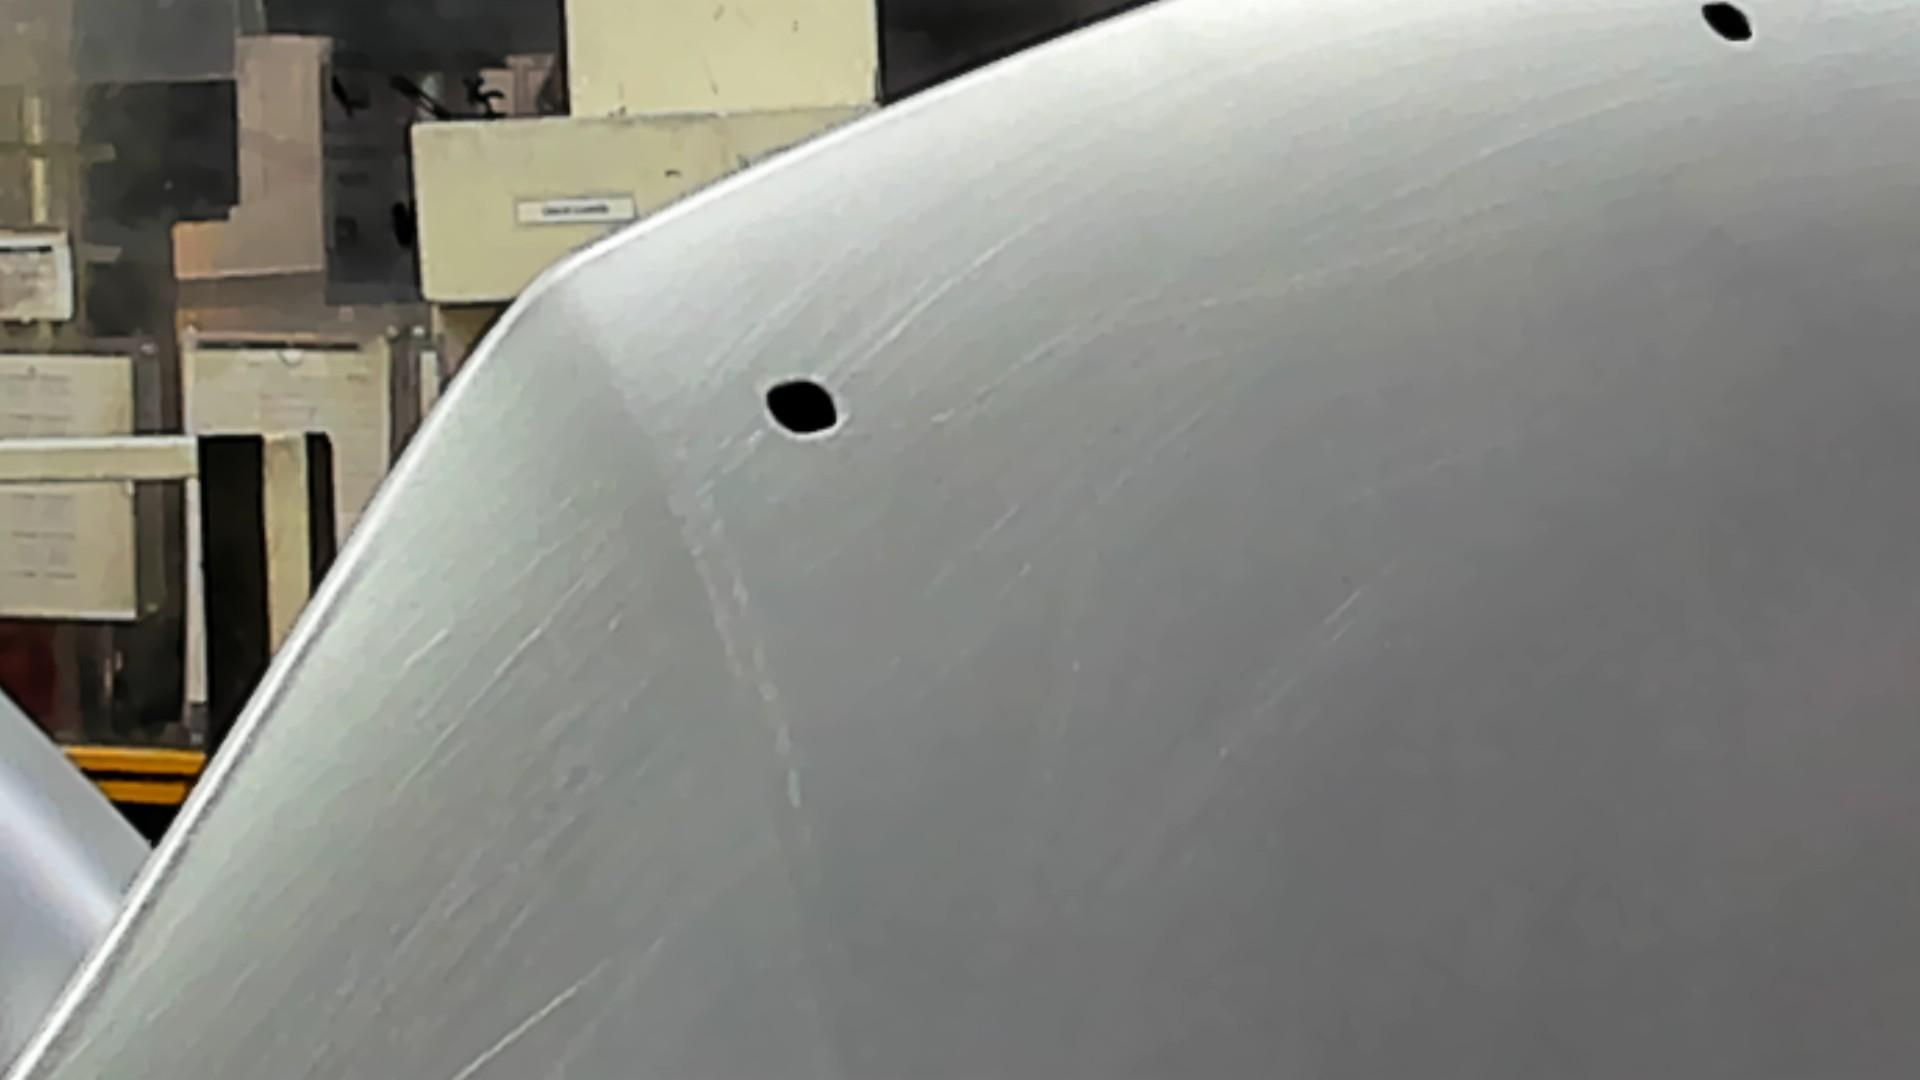amorfo: (756, 373, 848, 442), (1695, 1, 1760, 50)
